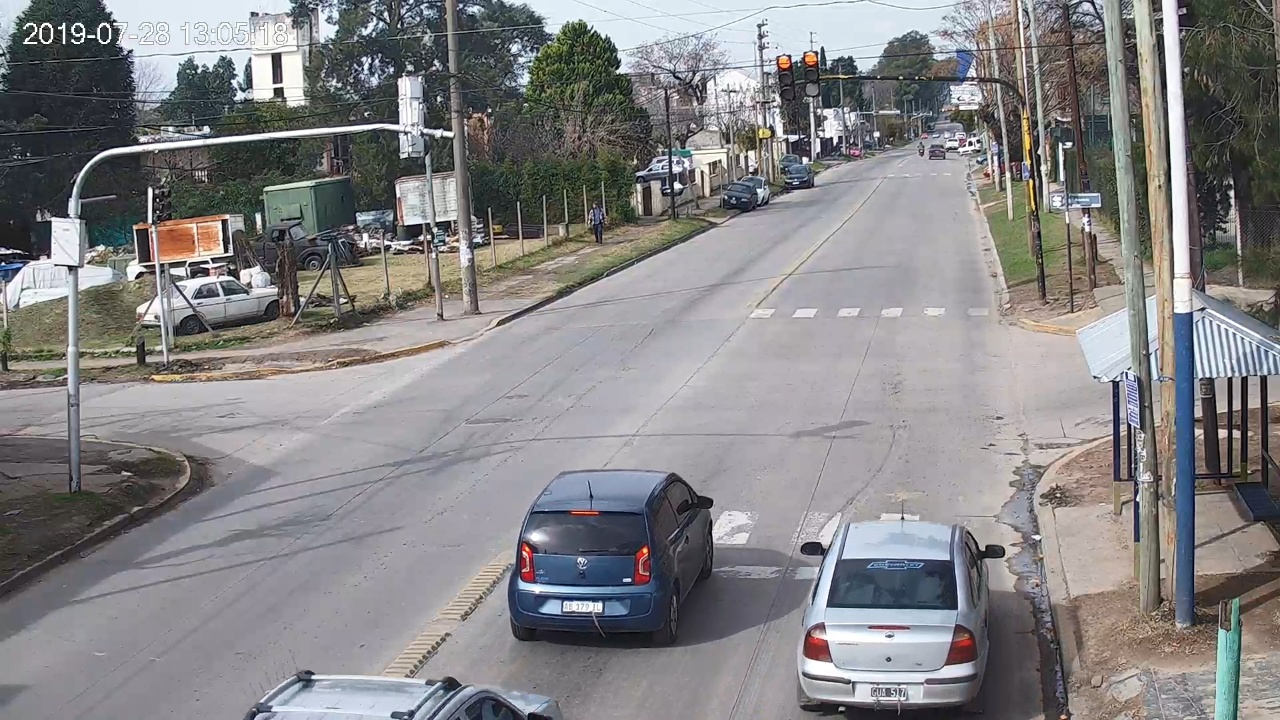car: (797, 520, 1005, 713), (508, 469, 714, 646), (242, 668, 563, 720)
traffic light: (777, 55, 796, 100), (804, 51, 821, 97)
